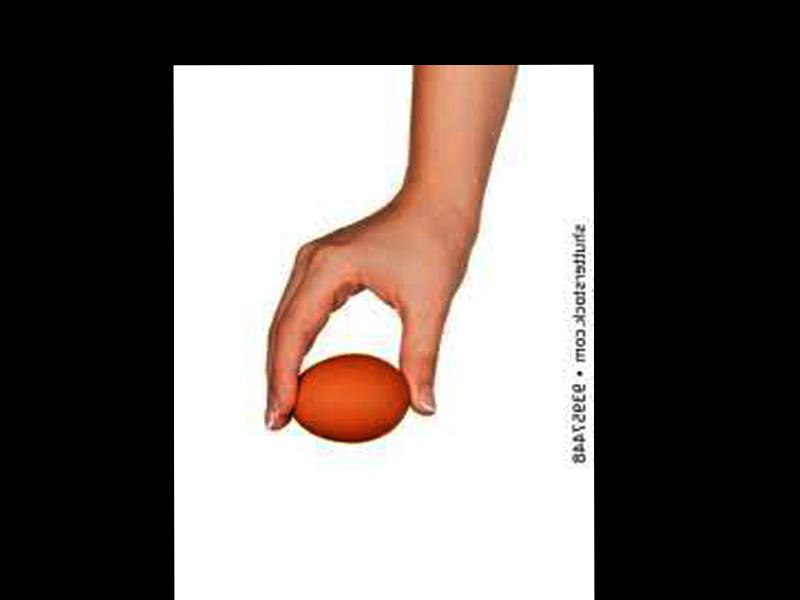Eggs: (284, 355, 411, 442)
